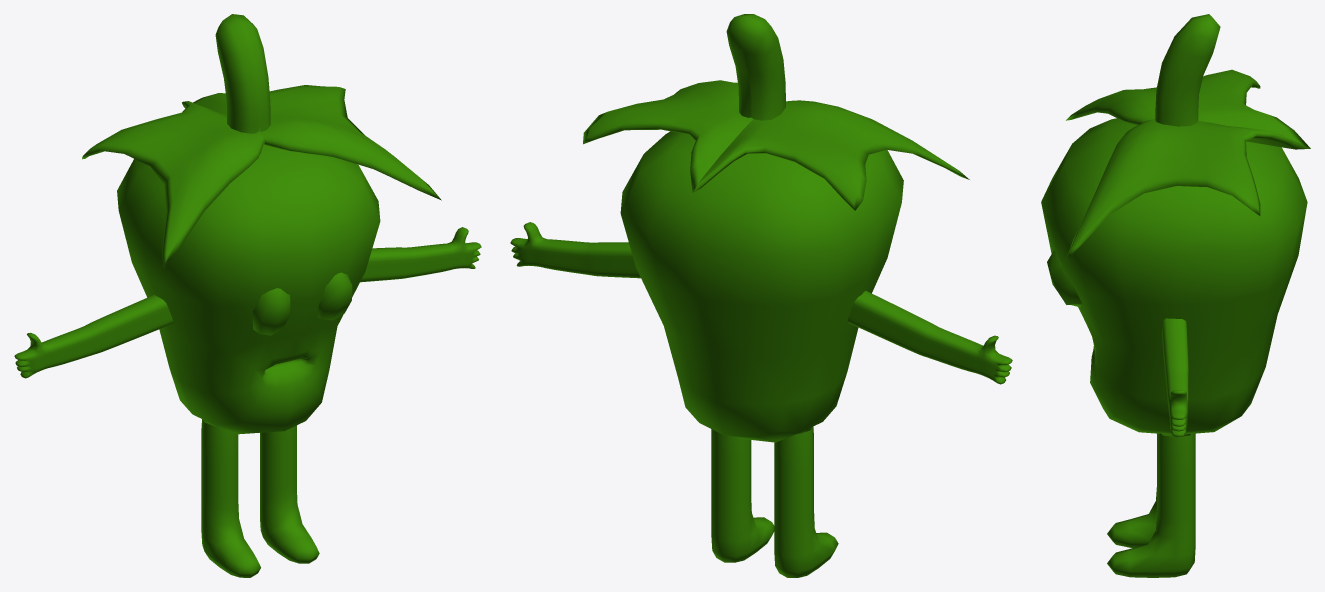
File: Sberry_dude.fbx
3 views of the same model, side by side, from view 1: azimuth 30°, elevation 25°; view 2: azimuth 150°, elevation 25°; view 3: azimuth 270°, elevation 25° (orthographic). The views are drawn at different scales.
Visible parts, largest first — view 1: Sberry_Dude; view 2: Sberry_Dude; view 3: Sberry_Dude.
Boxes of the visible parts, left/top/right/bottom form: Sberry_Dude: left=14, top=14, right=481, bottom=577; Sberry_Dude: left=510, top=14, right=1012, bottom=577; Sberry_Dude: left=1041, top=14, right=1310, bottom=577.
Bounding box in the file's own units: 437 × 472 × 212.
